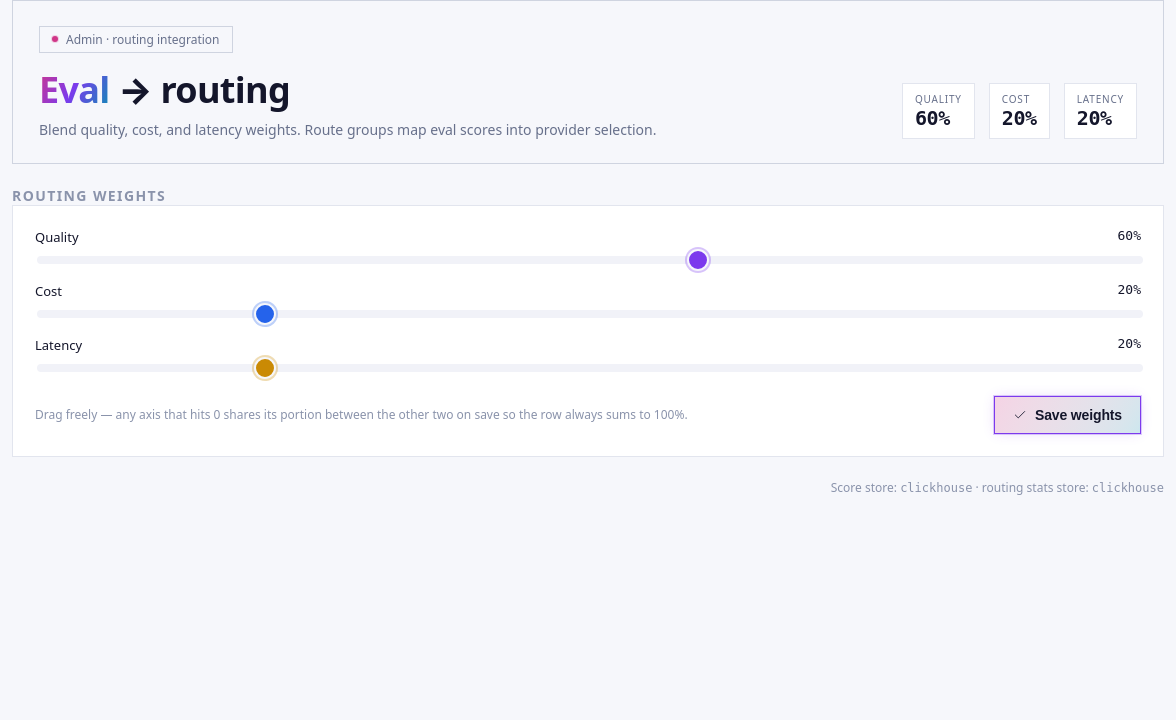
Test: <EvalRoutingIntegration /> weights sliders › drag is isolated — moving one axis does NOT move the others
The image size is (1176, 720).
Expected: the heading "Routing weights" is shown, x1=12 y1=186 x2=166 y2=204
Set the slider labelled "Quality 60%" to "0.4" at (481, 260), box x1=37 y1=256 x2=1143 y2=264
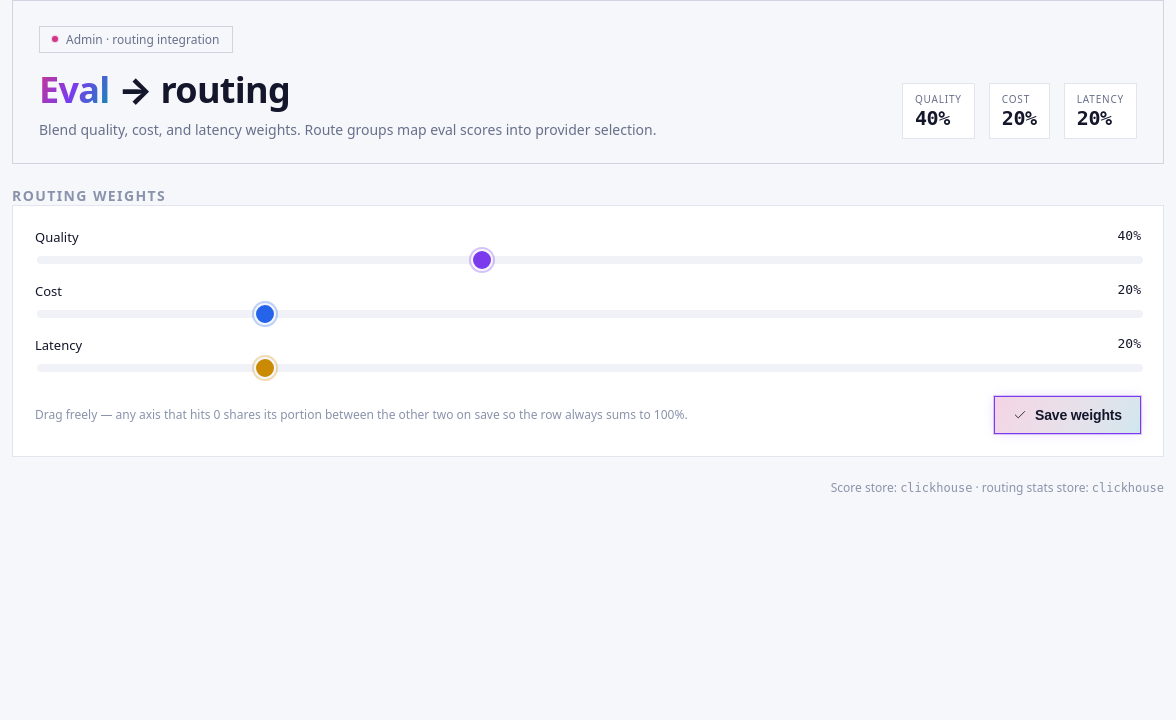
Expected: the 3rd text with class "weight-slider-value" reads "20%", x1=1118 y1=282 x2=1141 y2=300
Now the 2nd text with class "weight-slider-value" reads "40%", box x1=1118 y1=228 x2=1141 y2=246
Set the slider labelled "Latency 20%" to "0.7" at (808, 368), box x1=37 y1=364 x2=1143 y2=372
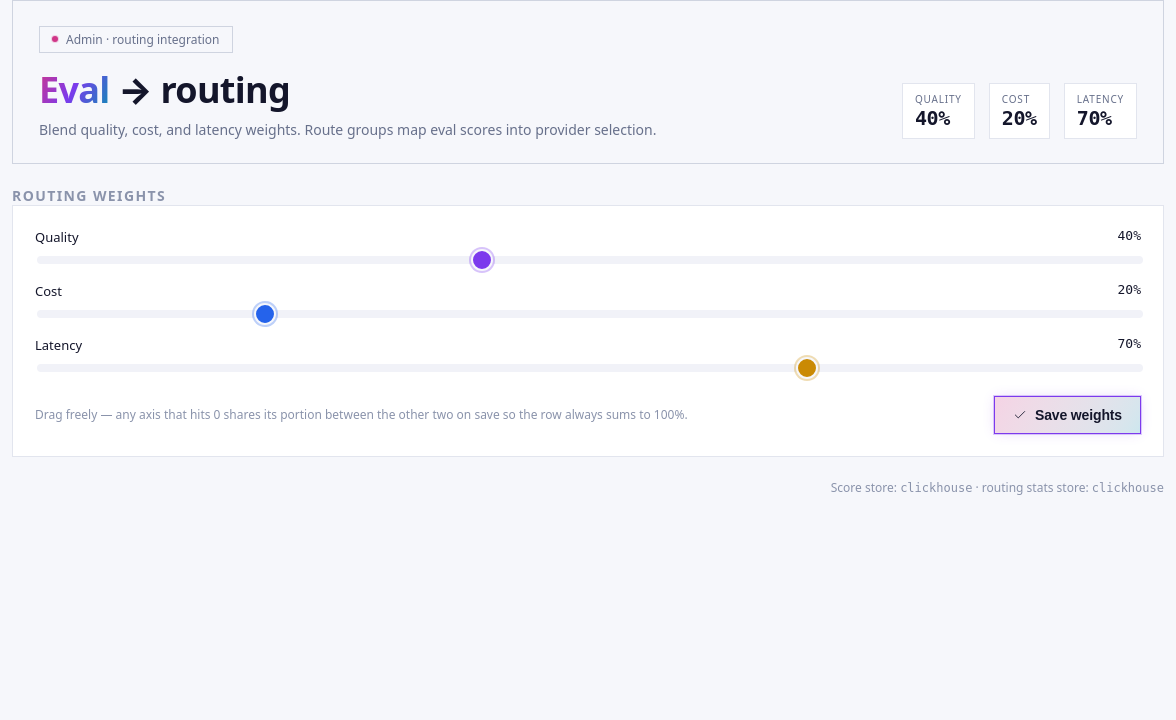
Expected: the 2nd text with class "weight-slider-value" reads "20%", x1=1118 y1=282 x2=1141 y2=300
Now the 2nd text with class "weight-slider-value" reads "40%", box x1=1118 y1=228 x2=1141 y2=246
Now the 2nd text with class "weight-slider-value" reads "70%", box x1=1118 y1=336 x2=1141 y2=354
